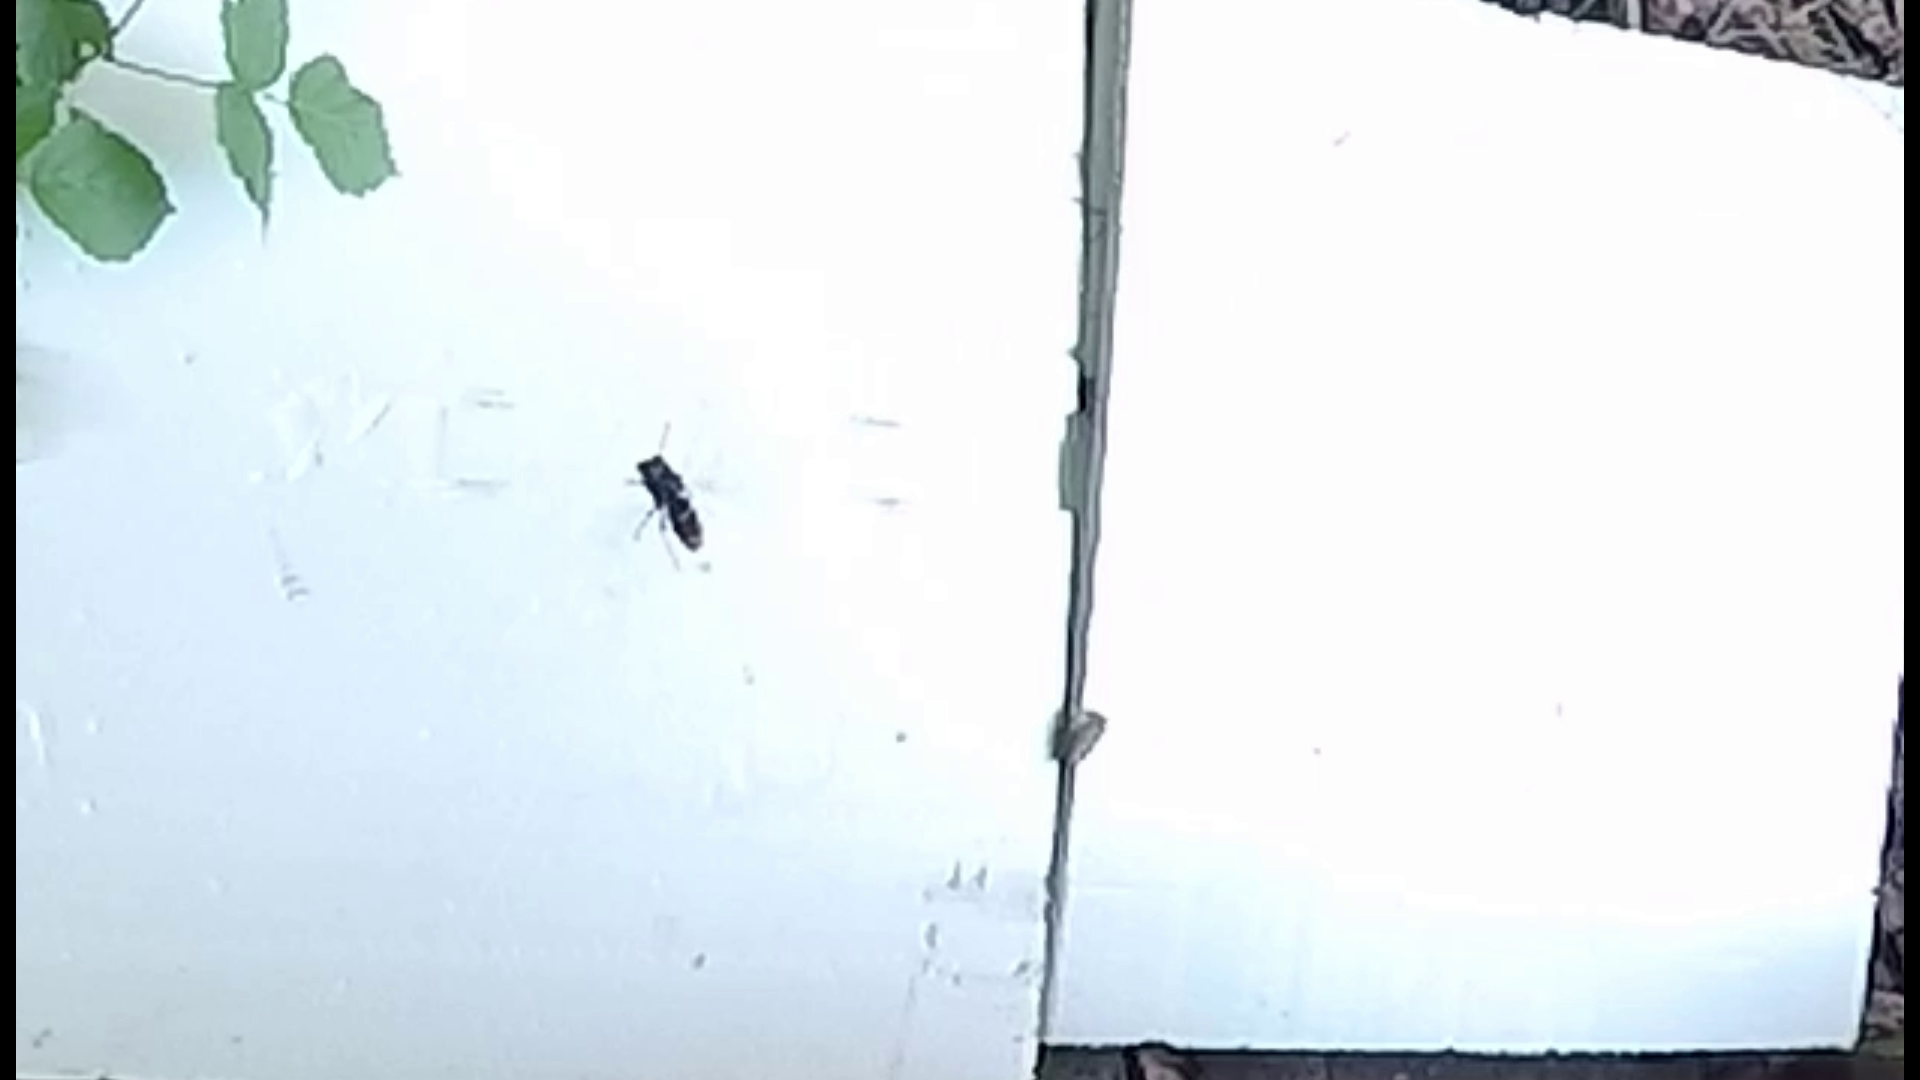Asian_hornets: (599, 413, 727, 576)
